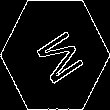M_SW: (26, 22, 84, 88)
